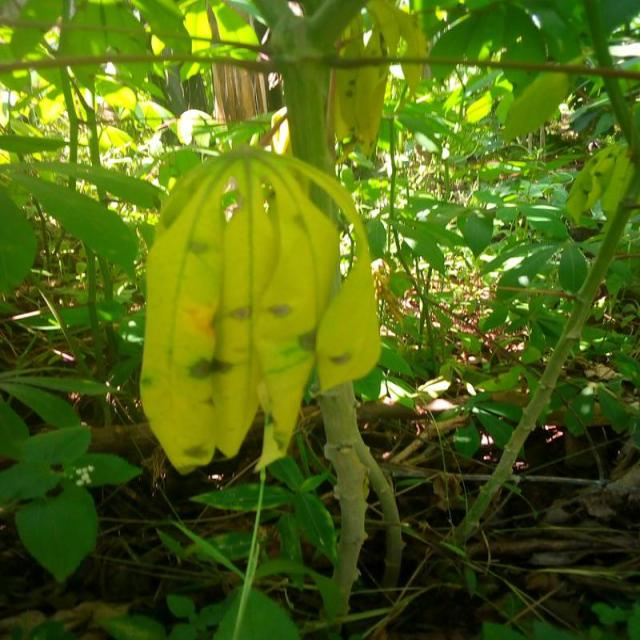cassava leaf: (138, 143, 382, 476)
